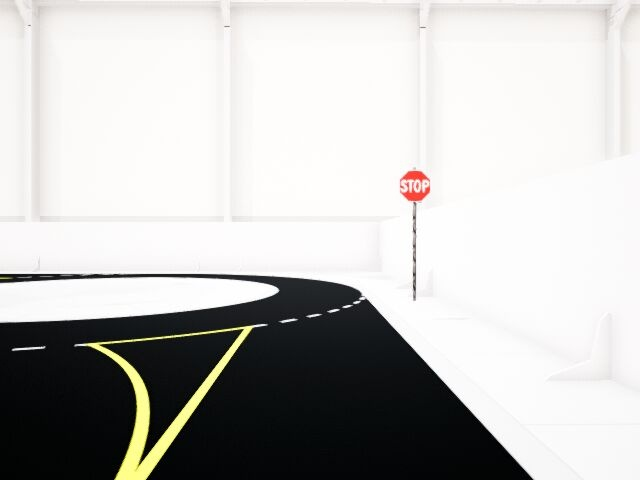stopsign: (396, 166, 434, 205)
